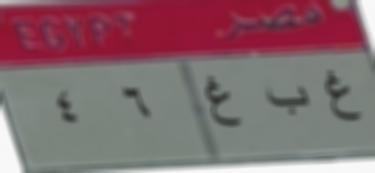4: (49, 82, 86, 128)
6: (118, 78, 158, 126)
baa: (261, 79, 312, 122)
ghayn: (200, 71, 246, 138), (317, 66, 363, 130)
